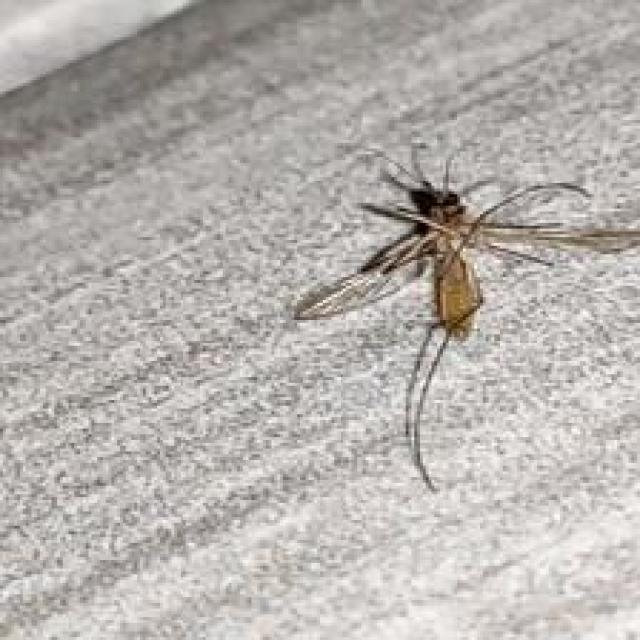Culex: (291, 140, 640, 494)
